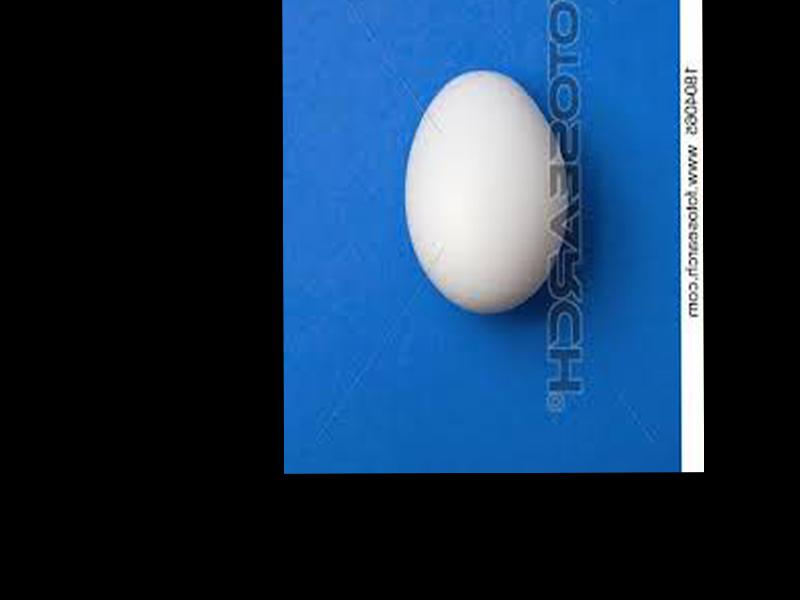Eggs: (405, 70, 573, 313)
